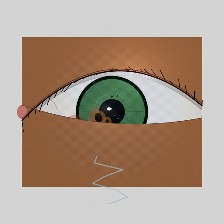foreign_body_visible: (98, 114, 117, 129)
